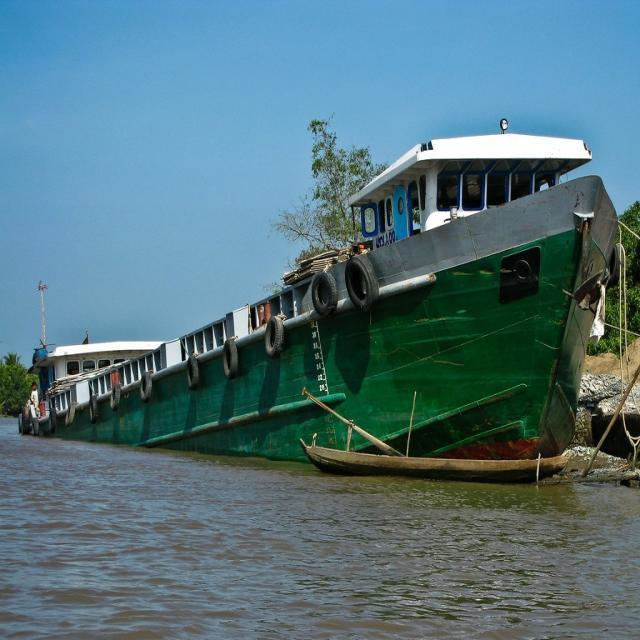boat: (26, 121, 624, 476), (298, 433, 572, 484)
